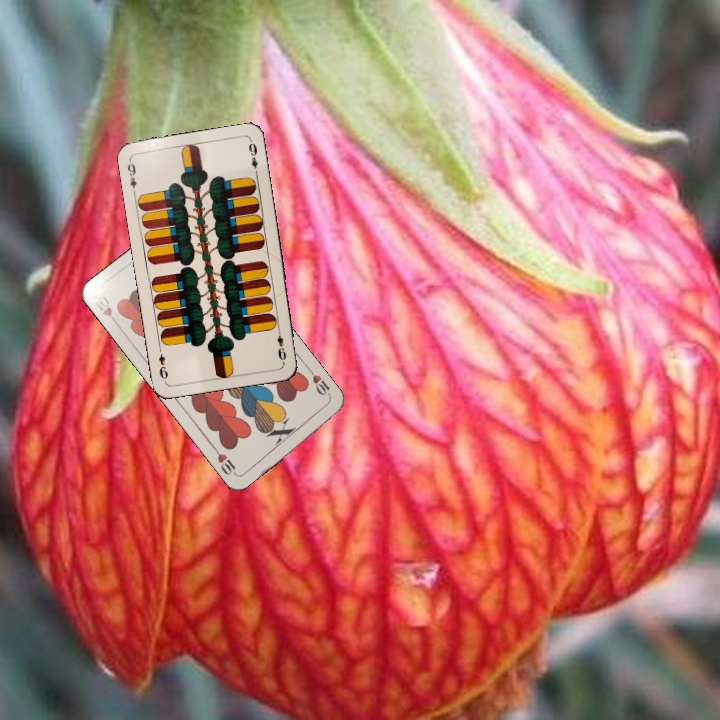E9: (273, 324, 289, 364), (123, 156, 139, 196)
H10: (88, 291, 121, 328), (305, 366, 334, 401)
